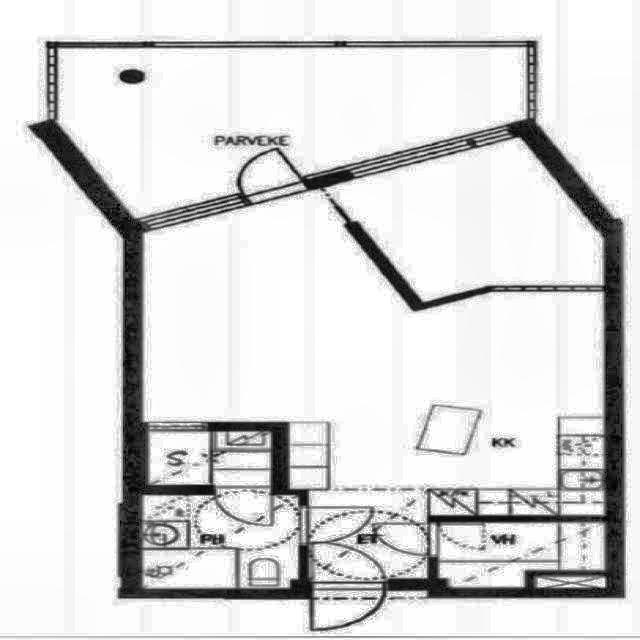room: (326, 130, 608, 311), (142, 495, 298, 589), (439, 521, 606, 587), (148, 431, 271, 485)
